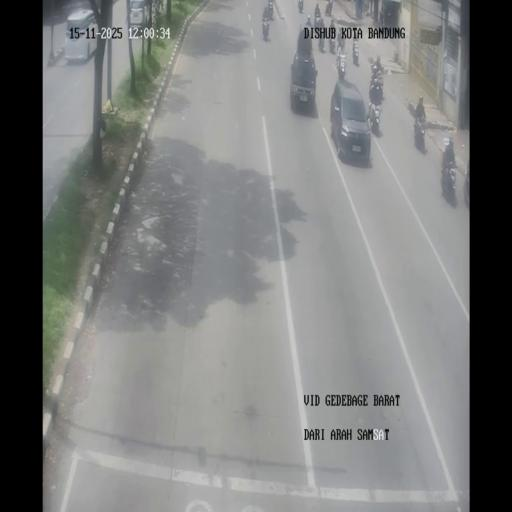car: (331, 80, 371, 165), (64, 9, 97, 63), (290, 51, 317, 113), (129, 0, 151, 28)
motorcycle: (440, 142, 457, 204), (368, 70, 384, 106), (413, 117, 426, 153), (370, 100, 382, 134), (336, 46, 347, 80), (409, 100, 425, 122), (352, 42, 360, 66), (464, 172, 469, 210), (318, 27, 325, 53), (262, 20, 270, 41), (329, 34, 336, 54), (369, 55, 376, 74), (376, 55, 383, 74), (314, 11, 322, 26), (336, 28, 342, 46), (268, 1, 274, 18), (362, 0, 368, 16), (326, 2, 332, 17), (353, 25, 358, 42), (379, 8, 384, 24), (298, 1, 303, 14), (306, 14, 311, 26)
